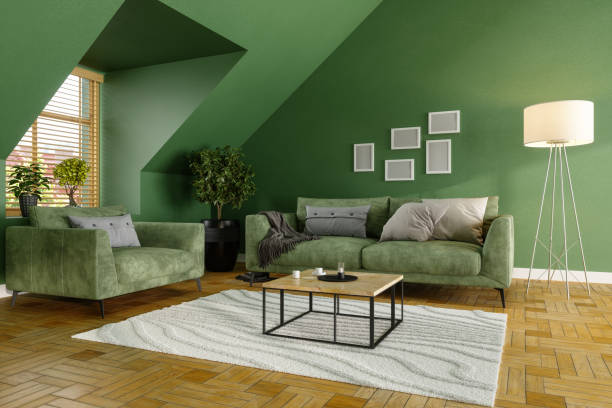chair: (3, 206, 208, 320)
floor lamp: (521, 98, 596, 300)
large plant: (187, 143, 253, 269)
small plant: (7, 161, 50, 214), (52, 156, 89, 207)
sofa: (241, 190, 517, 306)
table: (260, 266, 406, 350)
wall art: (424, 138, 452, 176), (425, 108, 461, 135), (382, 156, 417, 182), (389, 125, 421, 151), (350, 141, 375, 171)
